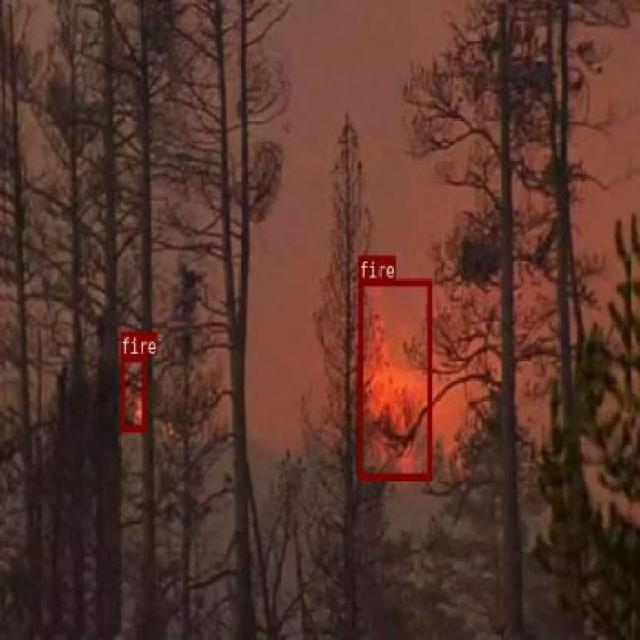Fire: (358, 278, 430, 478), (120, 354, 146, 430)
